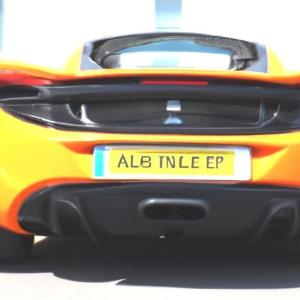Plate: (92, 144, 252, 181)
